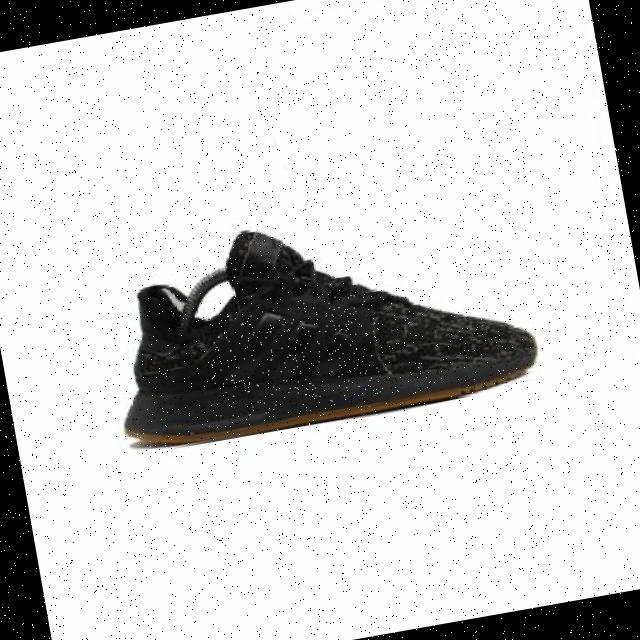Adidas: (200, 291, 384, 422)
